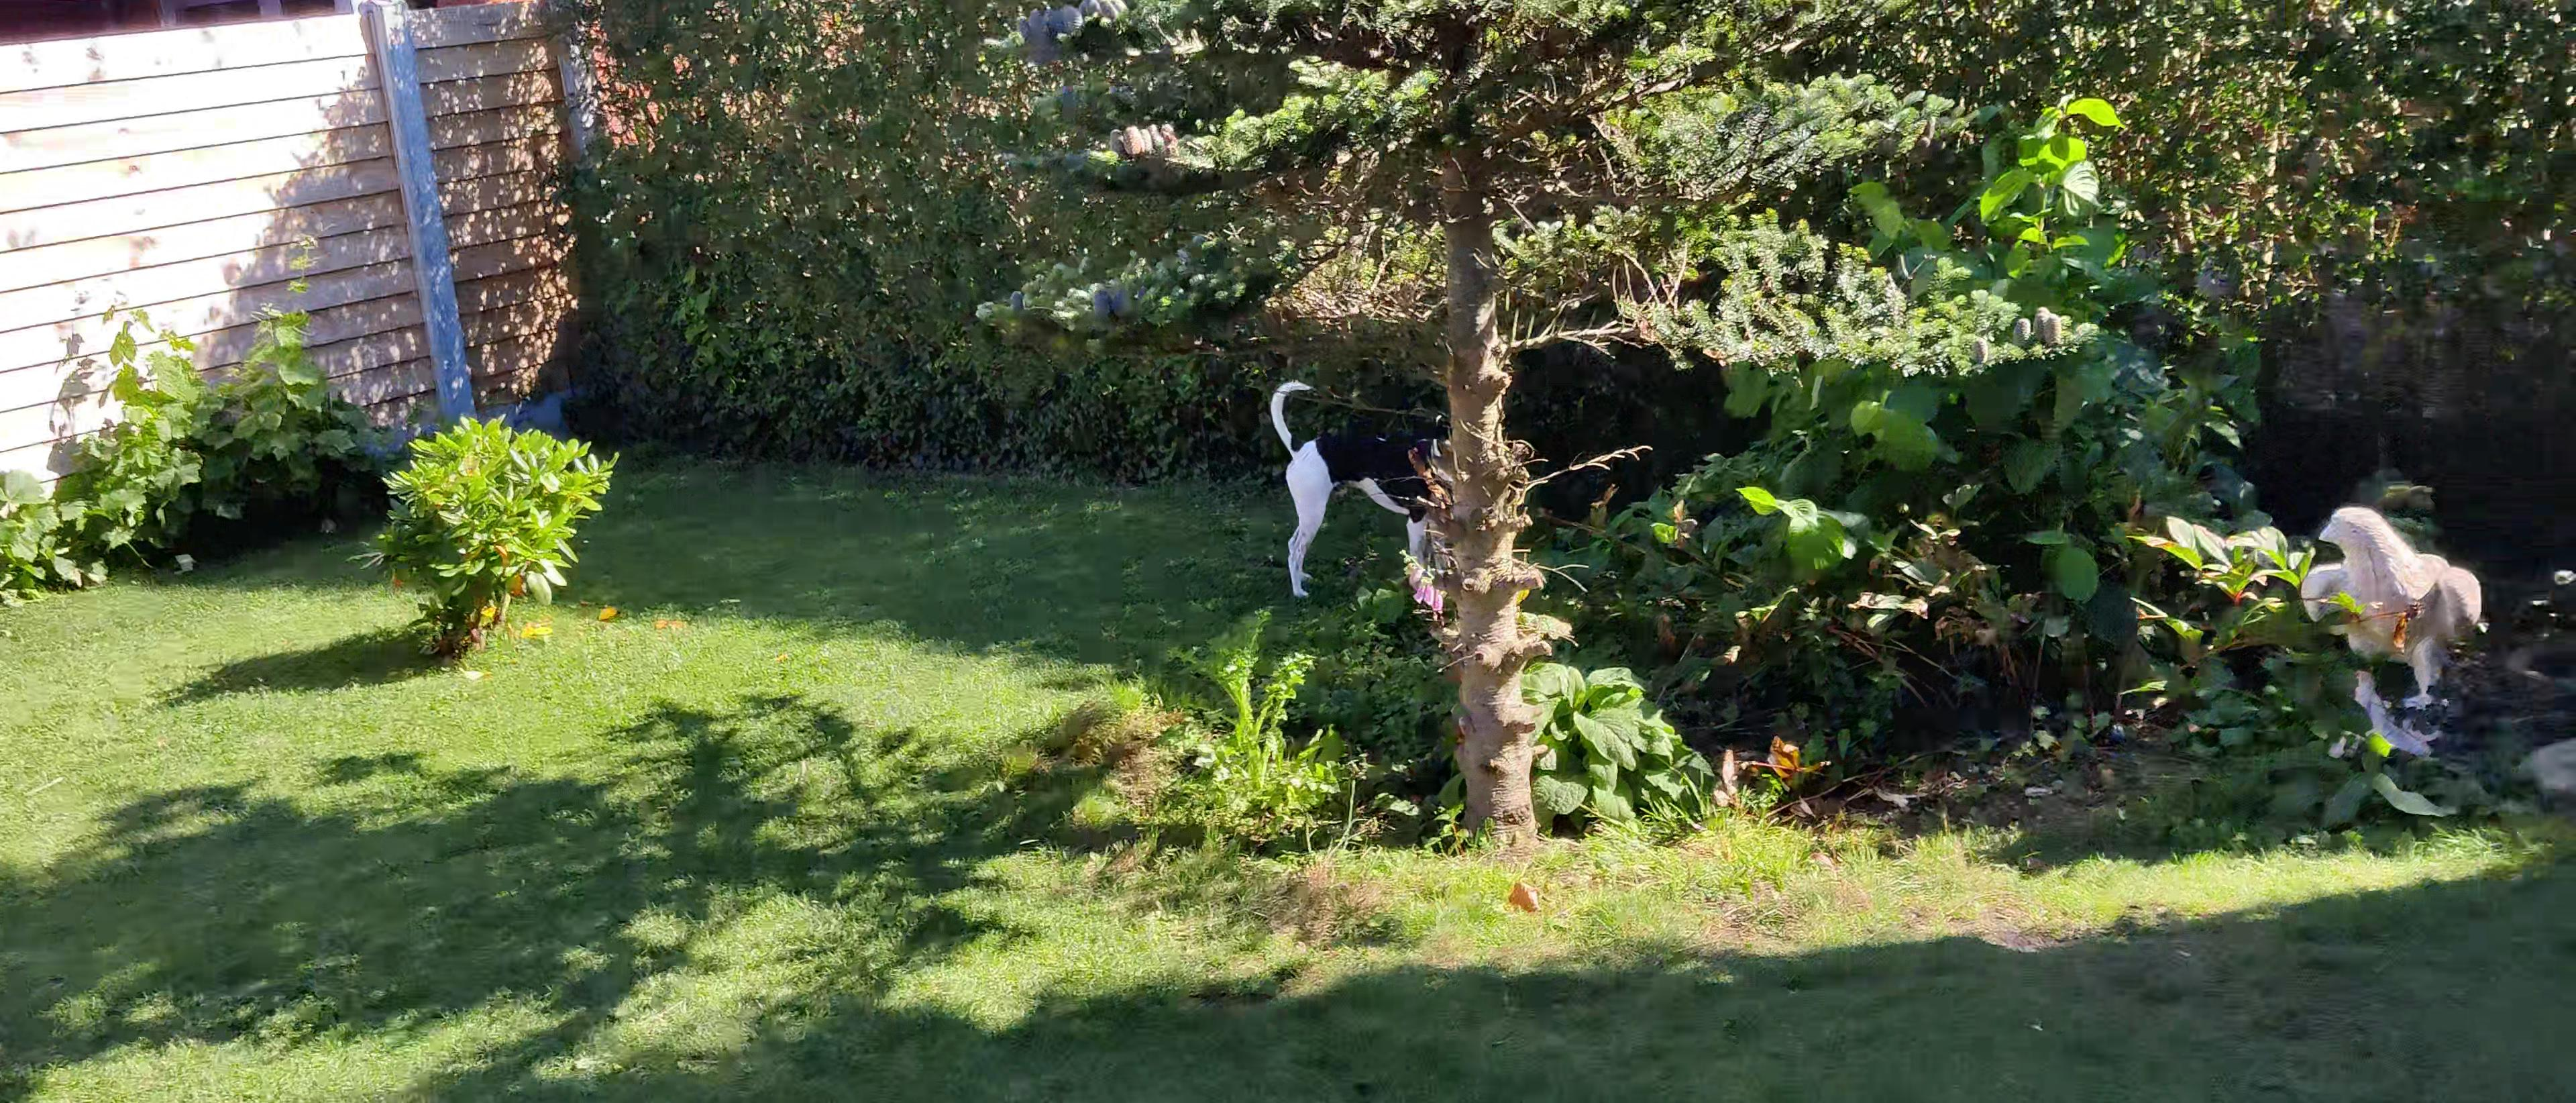Dog: (1263, 380, 1457, 603)
